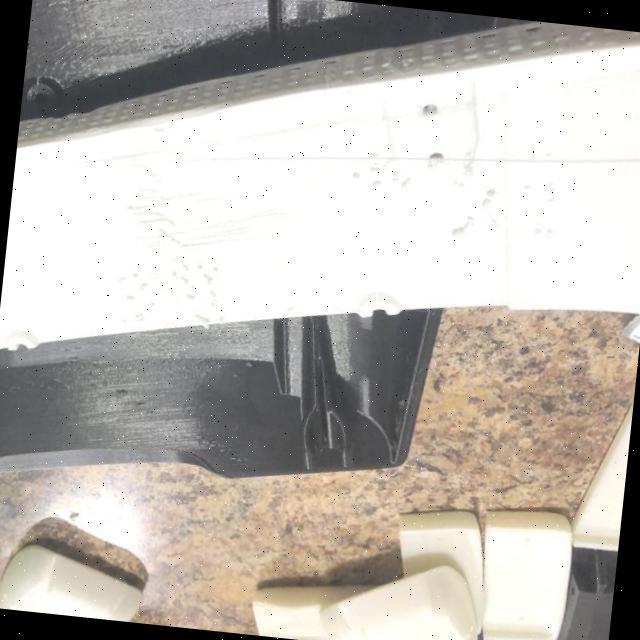blobs: (448, 224, 471, 240), (478, 197, 496, 214), (134, 280, 154, 294), (190, 313, 208, 327), (397, 179, 413, 194), (388, 170, 403, 186), (202, 288, 220, 300), (542, 228, 557, 242), (131, 312, 148, 324), (349, 171, 364, 184), (368, 178, 383, 190), (367, 150, 382, 162), (366, 164, 380, 176), (201, 273, 216, 284), (544, 195, 557, 207), (531, 226, 544, 238), (193, 262, 206, 274), (542, 186, 556, 197), (464, 216, 478, 227), (177, 261, 191, 272), (183, 292, 198, 302), (484, 188, 497, 199), (207, 297, 220, 308), (209, 263, 220, 276), (124, 293, 135, 306), (213, 314, 226, 324), (114, 275, 127, 285), (456, 183, 467, 192), (520, 184, 531, 193), (178, 276, 190, 284), (185, 284, 198, 291), (146, 301, 156, 310), (130, 271, 138, 280), (120, 317, 128, 325)
